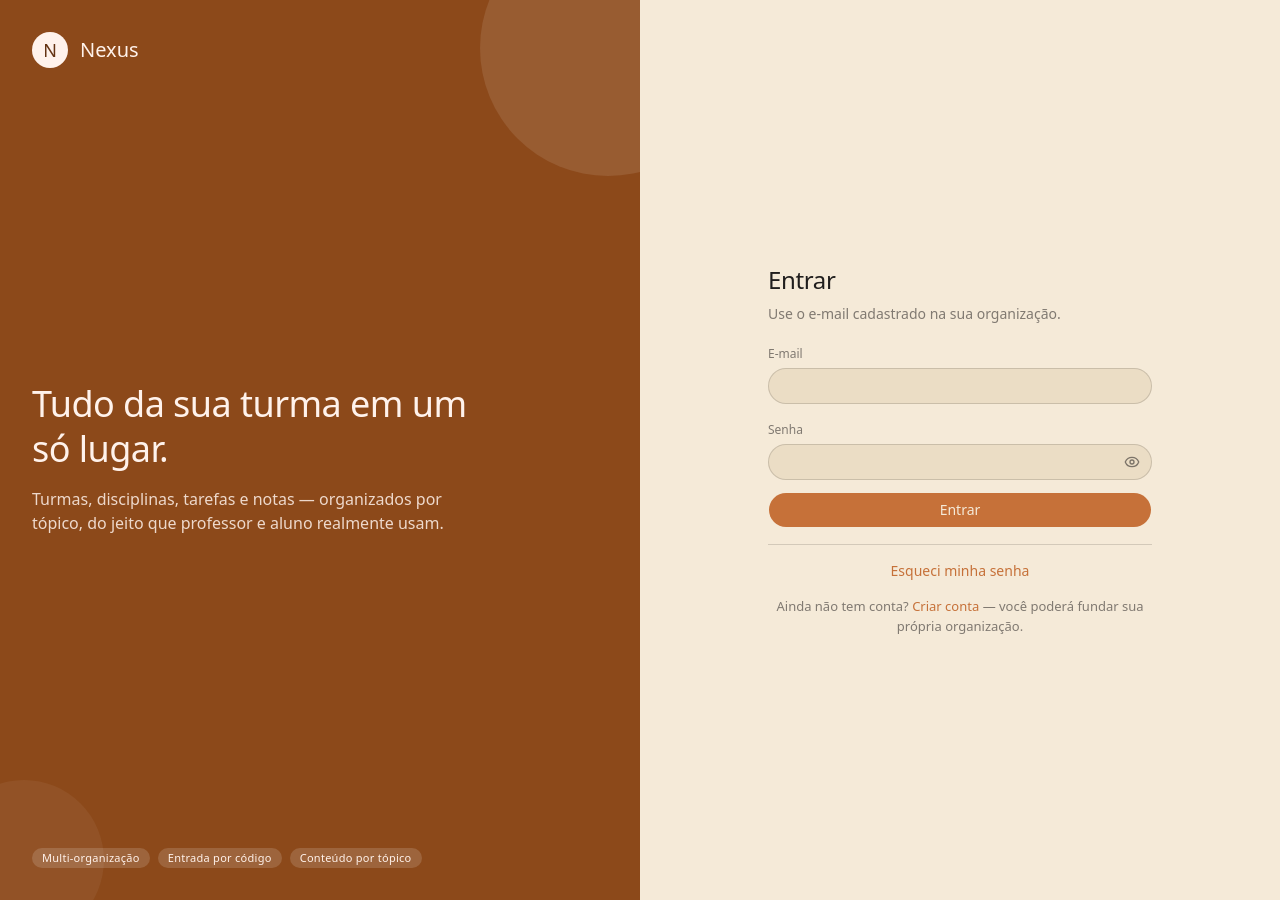
Test: LoginPage › still names a wrong password for a plain 401
Type "user@test.com" into the field labelled "E-mail".
click(960, 386); type("user@test.com")  # box [768,368,1152,404]
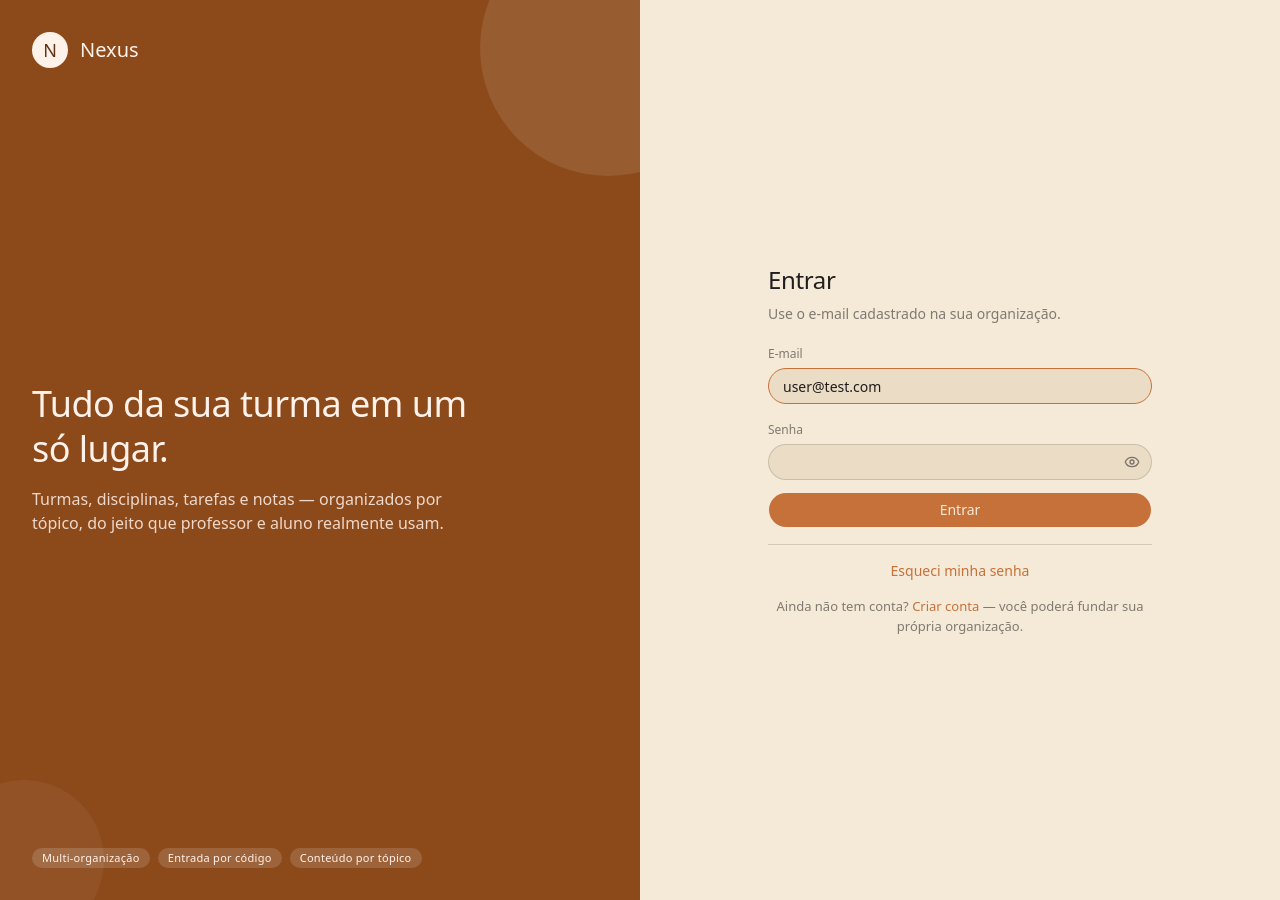
Type "password123" into the password field labelled "Senha".
click(960, 462); type("password123")  # box [768,444,1152,480]
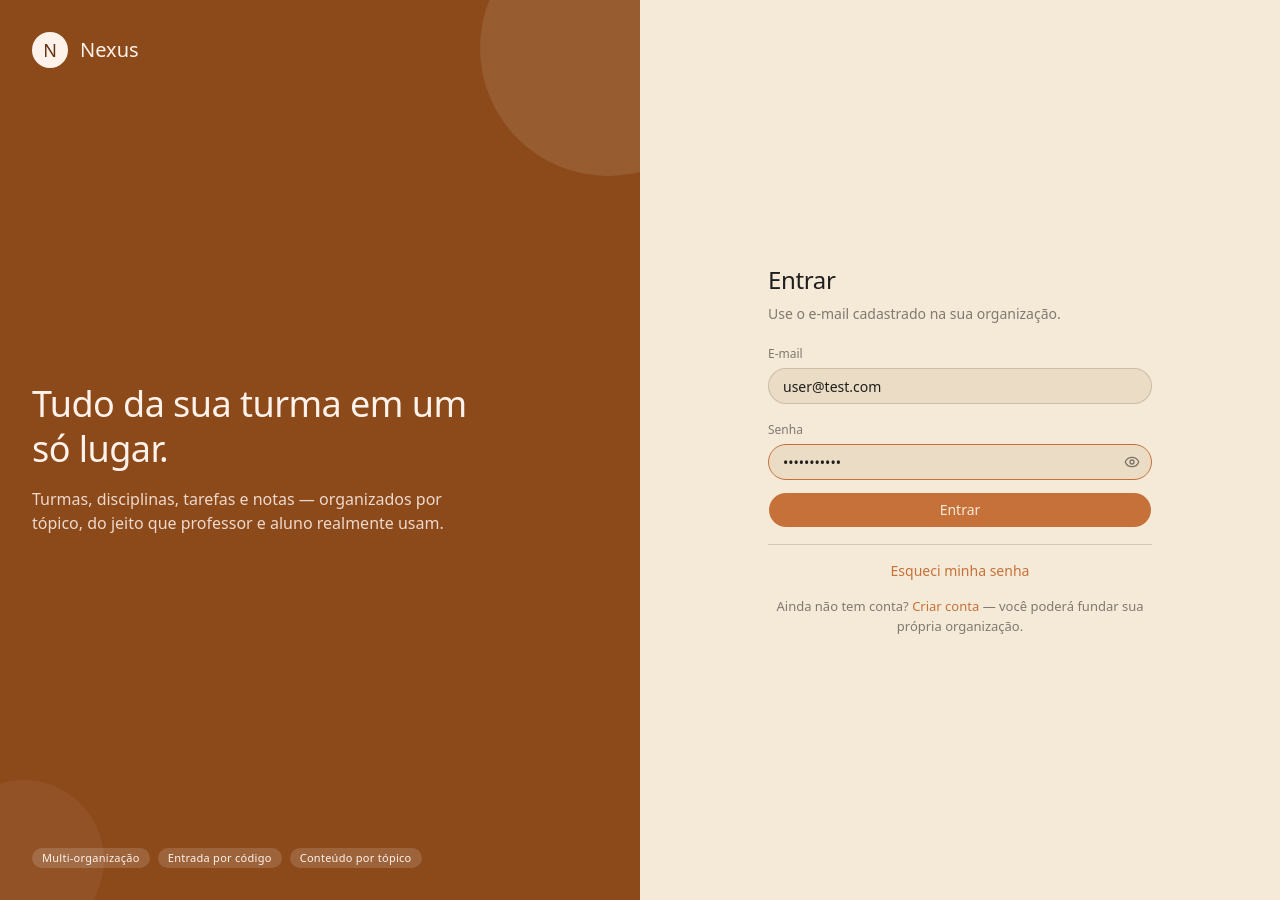
Click the button "Entrar".
click(960, 510)  # box [768,492,1152,528]
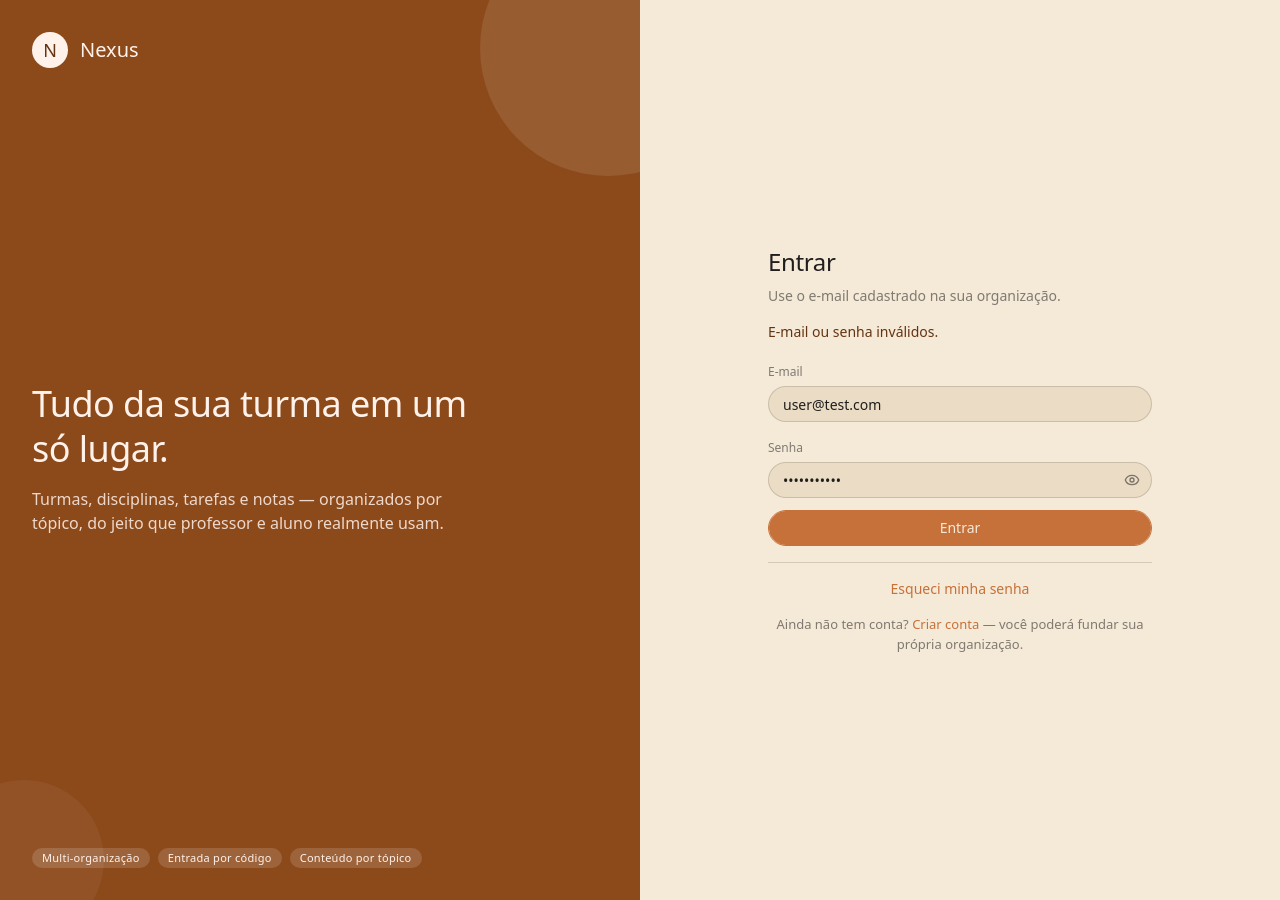
Expected: the button "Entrar" is enabled, [768,510,1152,546]
Expected: the text "E-mail ou senha inválidos." is shown, [768,322,938,341]
